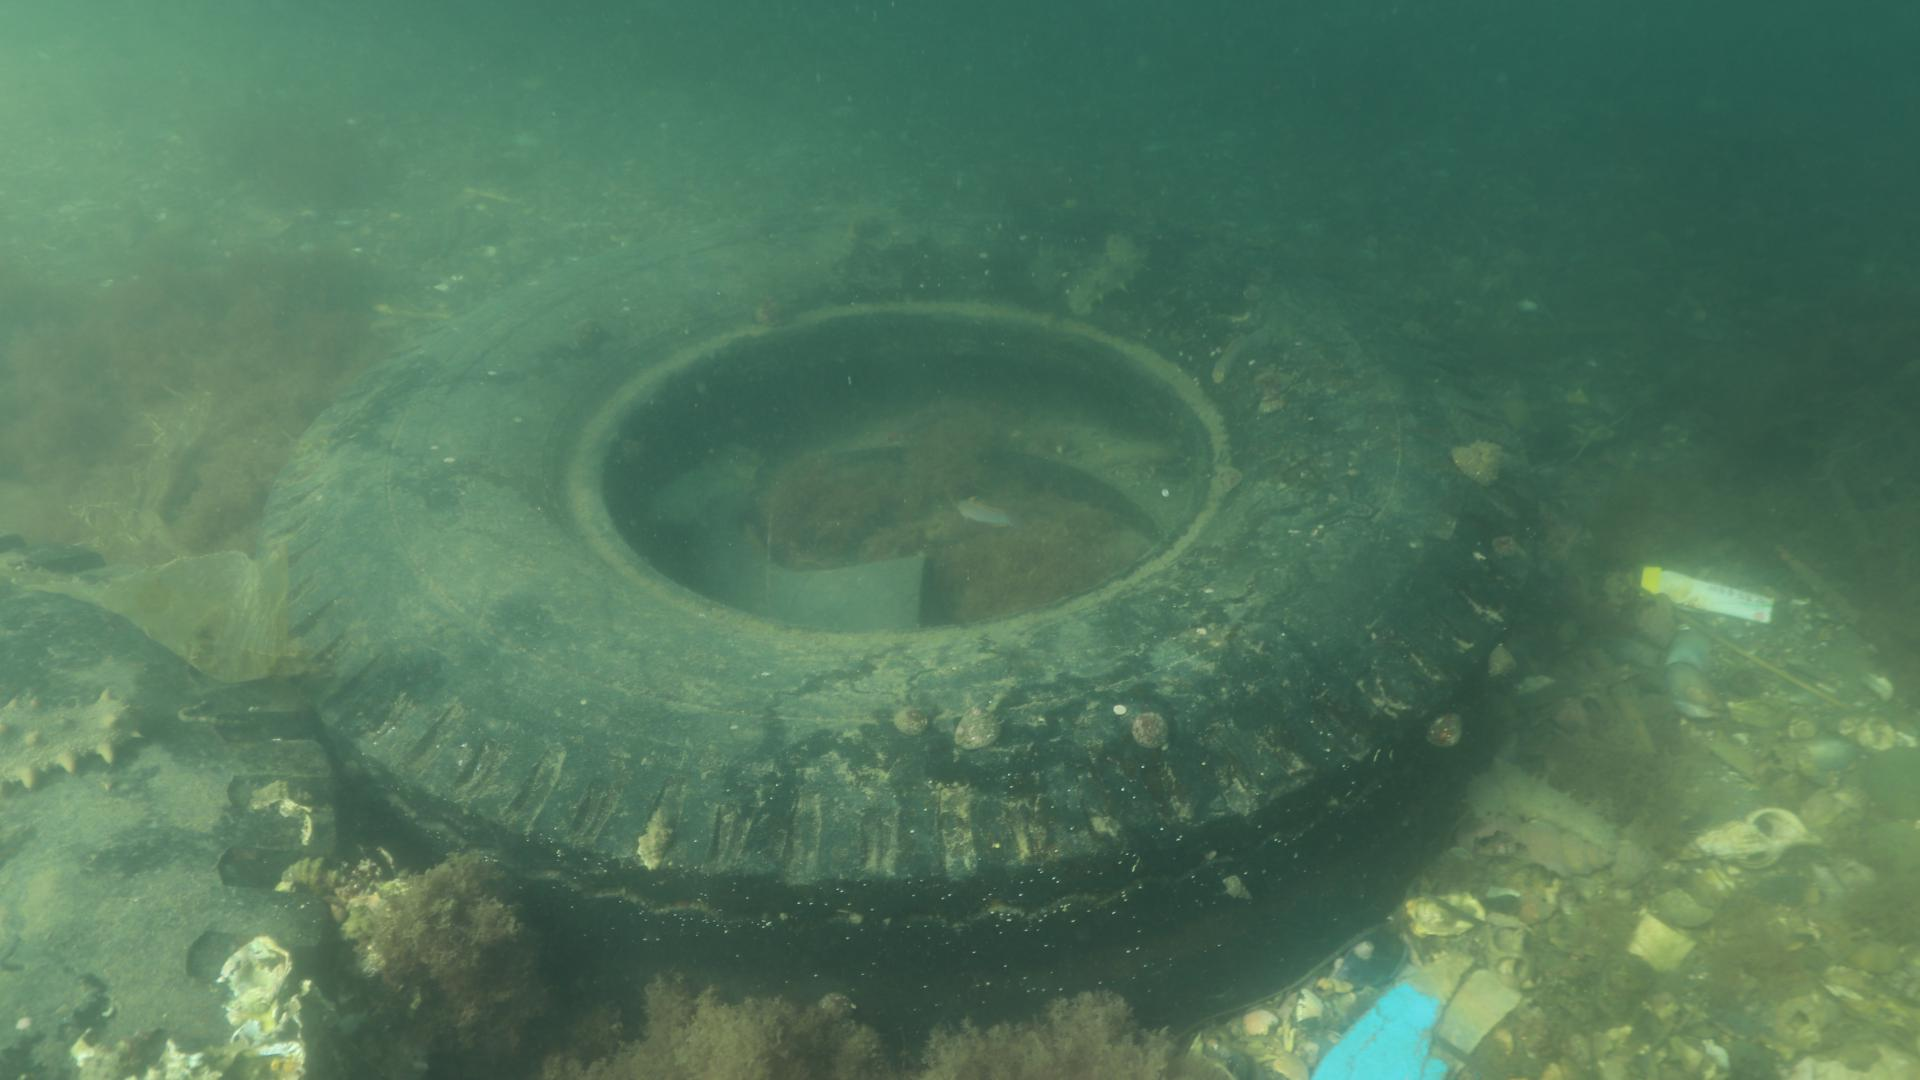tire: (258, 208, 1534, 1069)
